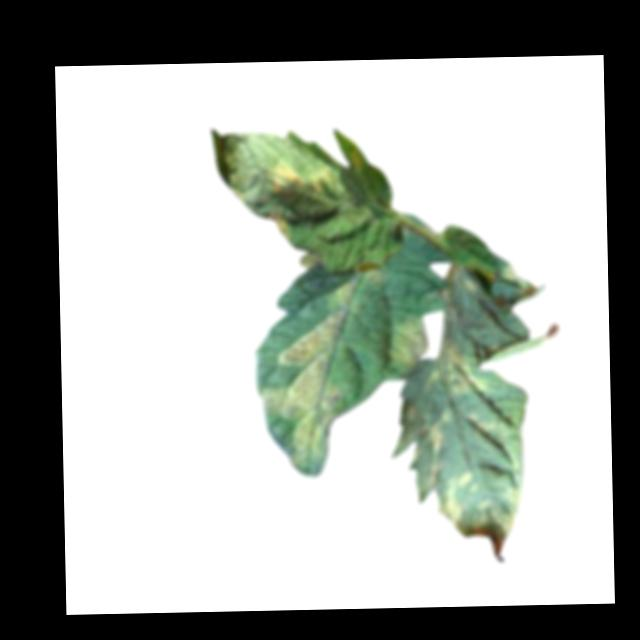Leaf_Mold: (258, 277, 363, 468), (444, 468, 525, 530), (405, 402, 443, 486), (271, 159, 344, 202), (441, 339, 489, 398), (389, 318, 434, 374), (266, 210, 292, 241), (357, 261, 387, 286), (350, 145, 366, 176)
